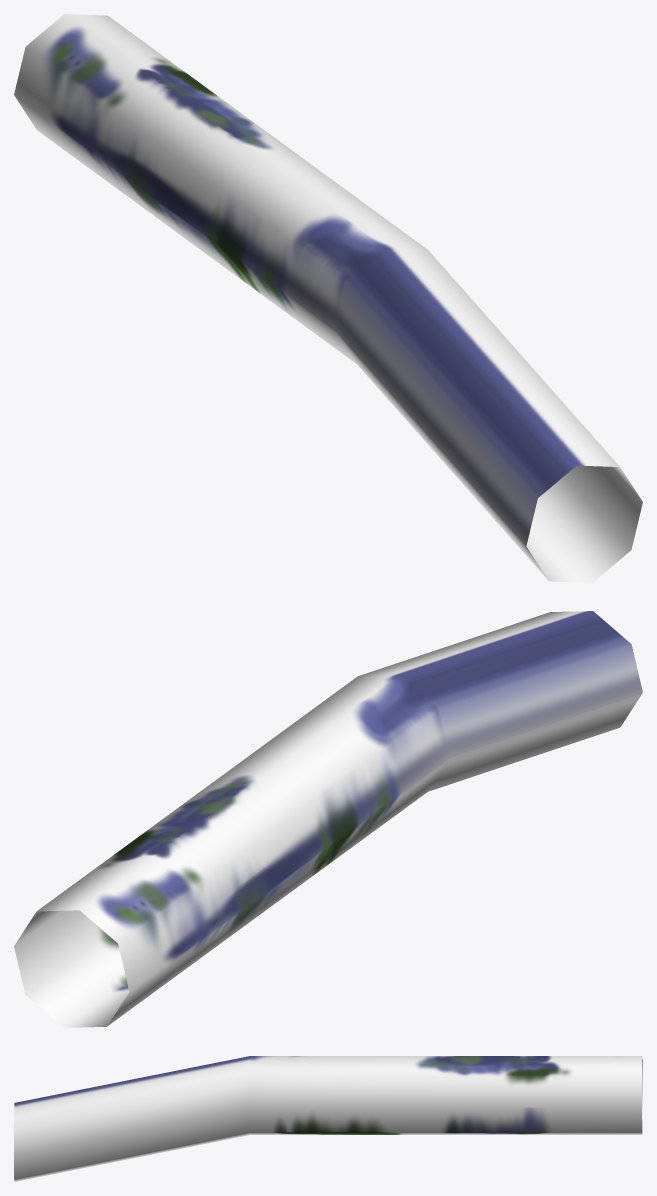
The model's file is eğik boru.fbx.
The picture shows the model from 3 angles, top to bottom: view 1: azimuth 30°, elevation 25°; view 2: azimuth 150°, elevation 25°; view 3: azimuth 270°, elevation 25°; orthographic projection. The views are drawn at different scales.
Visible parts, largest first — view 1: düzboru; view 2: düzboru; view 3: düzboru.
Part boxes in pixels (x1,y1,x2,y2): düzboru: (14, 14, 642, 582); düzboru: (14, 611, 642, 1027); düzboru: (14, 1056, 642, 1181).
Bounding box in the file's own units: 62.93 × 103 × 483.
Materials: 1 (1 with a texture image).
